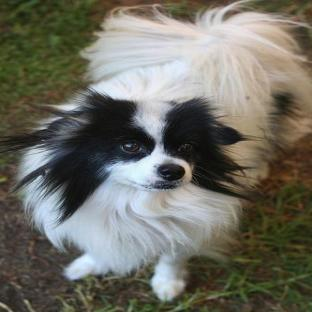Animal: (5, 1, 312, 300)
